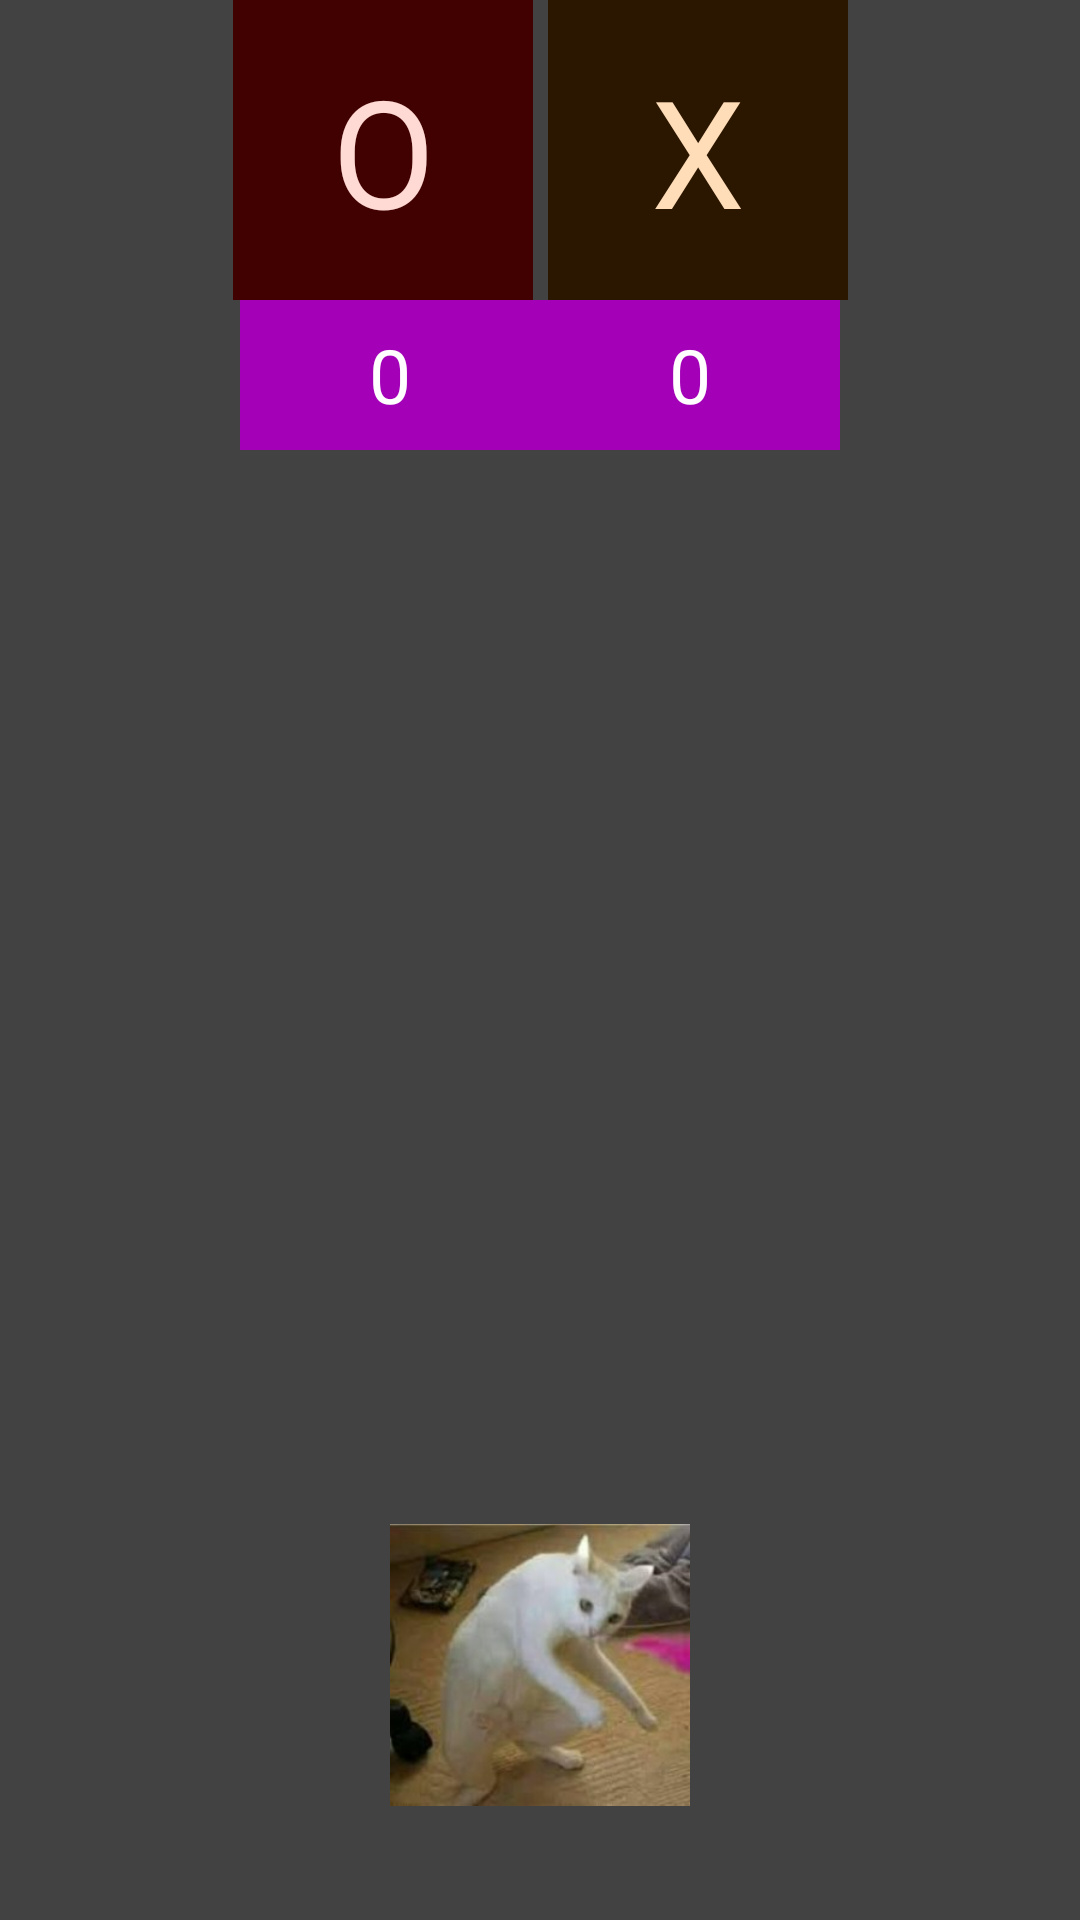

Locate icon controls on the screen. Image size 1080 × 1920, boxes as (x1, y1, x2, y2).
gatoderecha: (390, 1524, 690, 1806)
